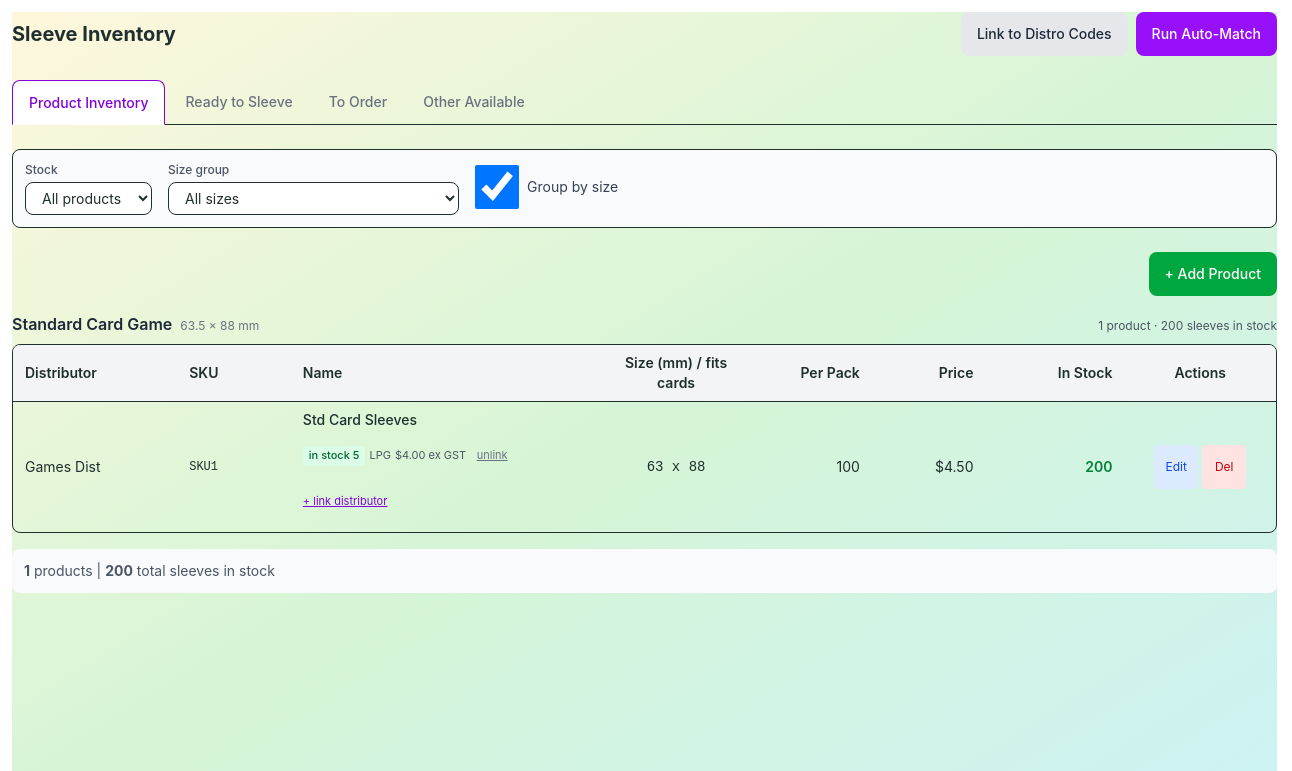
SleeveInventoryTab › HL distro code link › Other Available lists unlisted catalogue sleeves and prefills the add form
Click the button "Other Available".
click(474, 102)  # box top-left (407, 80), bottom-right (541, 124)
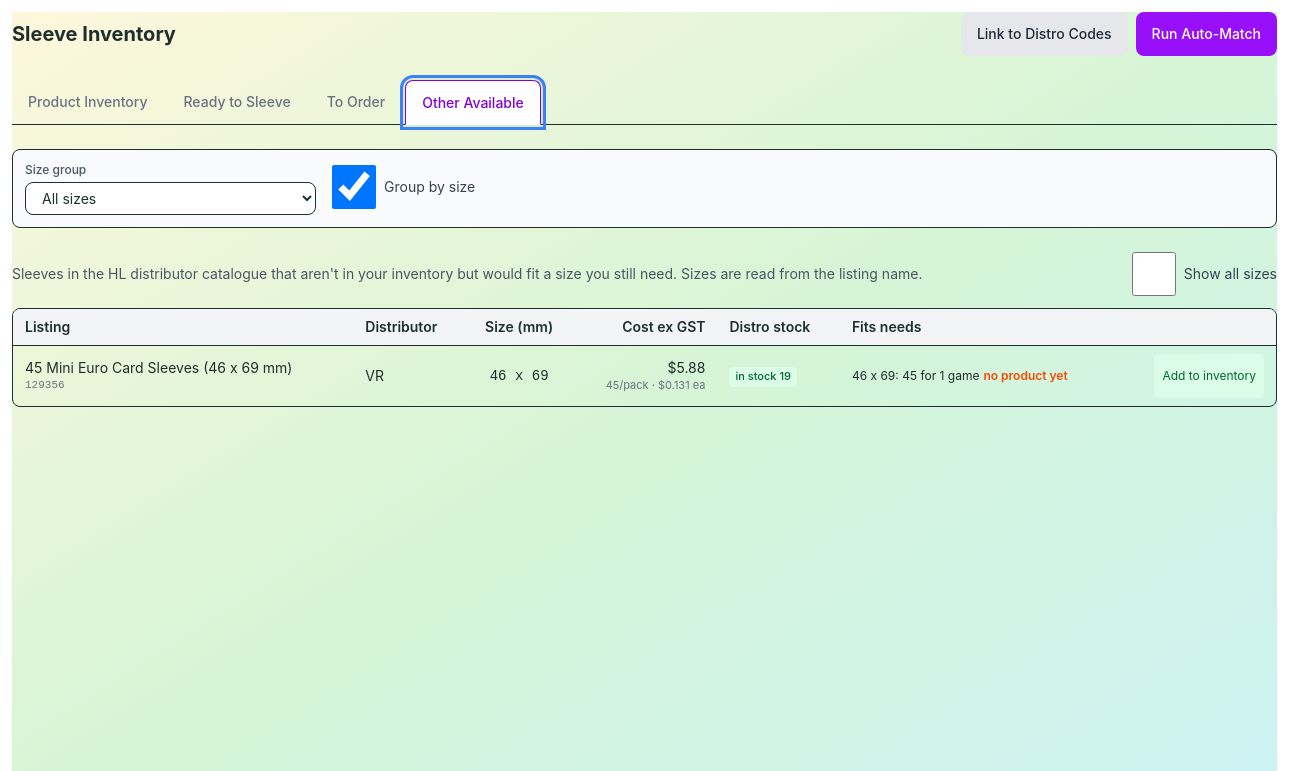
Result: the text "45 Mini Euro Card Sleeves (46 x 69 mm)" is shown at top-left (25, 359), bottom-right (292, 376)
Result: the text "no product yet" is shown at top-left (983, 368), bottom-right (1068, 383)
Click the button "Add to inventory".
click(1209, 376)  # box top-left (1154, 354), bottom-right (1264, 398)
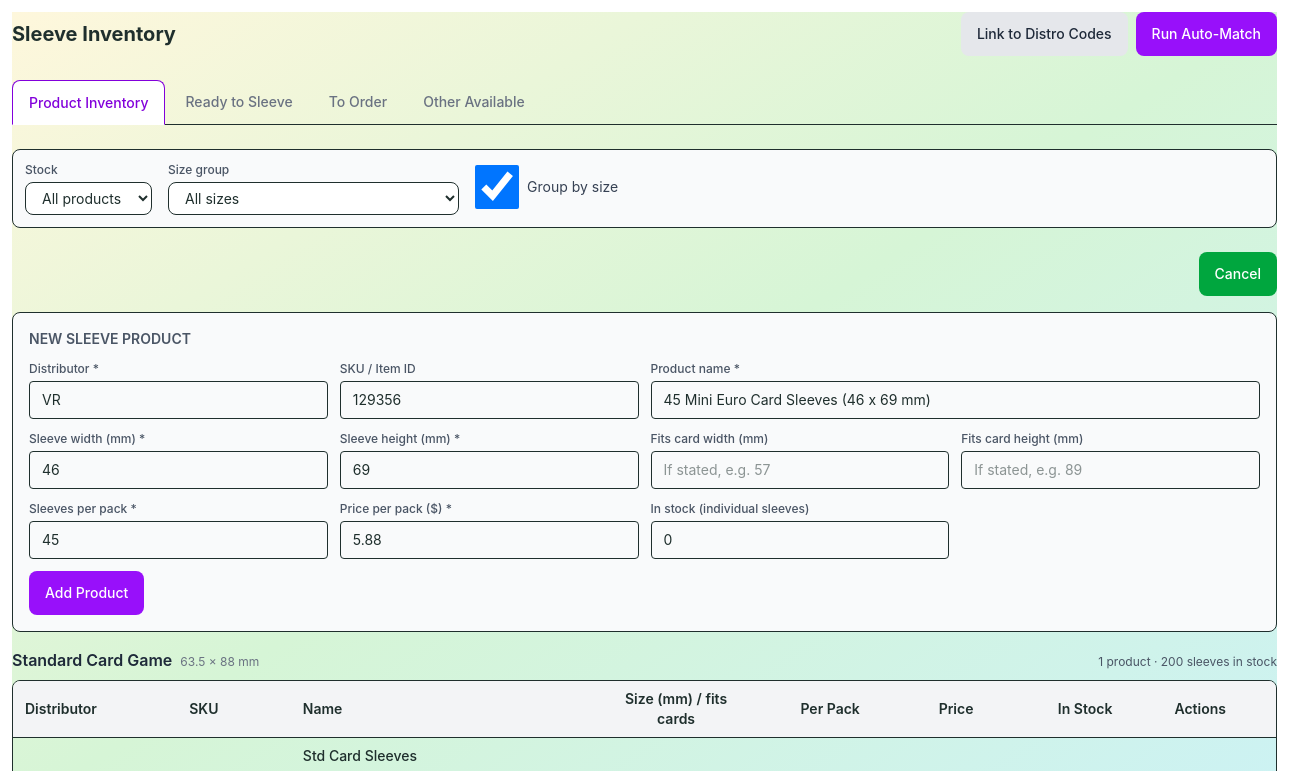
Result: the field showing "129356" is shown at top-left (340, 381), bottom-right (639, 419)
